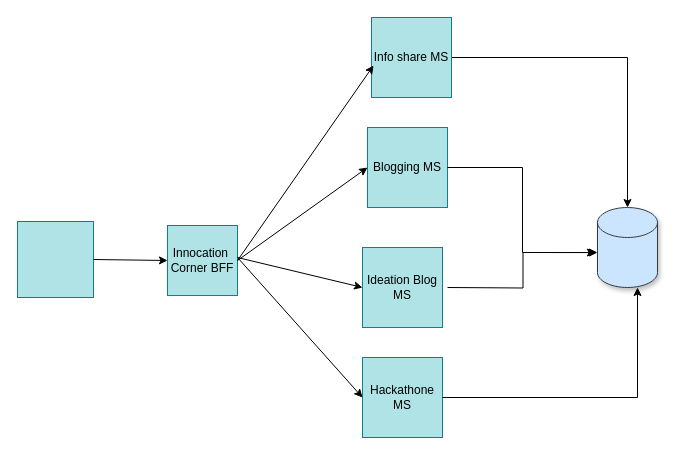
Some shapes in this 681 by 455 pixel diagram are drawn without their labels. Here are the shapes that lost their labels. From the top down, the centre of each, then its label:
point (55, 259): Innovation Cornet UI
point (628, 248): Postgresql
